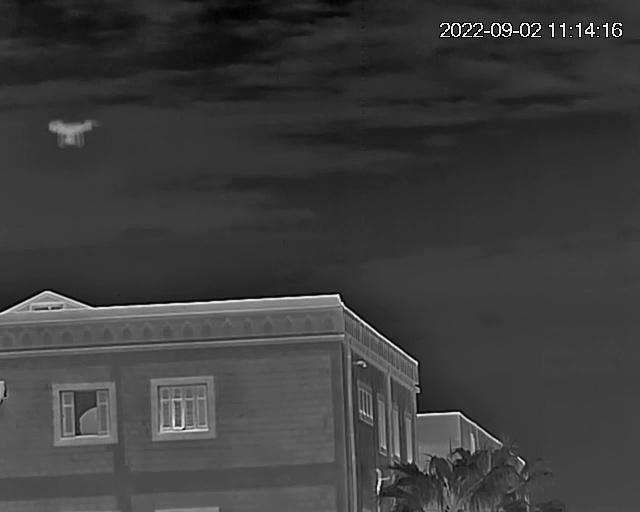DJI-Phantom: (45, 115, 101, 153)
